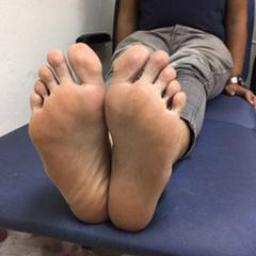Plantar View -Both Feet-: (20, 35, 192, 233)
